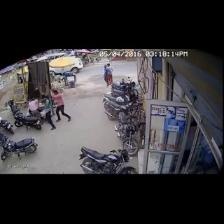person: (53, 90, 71, 121), (42, 95, 55, 130), (28, 98, 41, 122), (107, 63, 112, 84), (104, 66, 108, 86)
